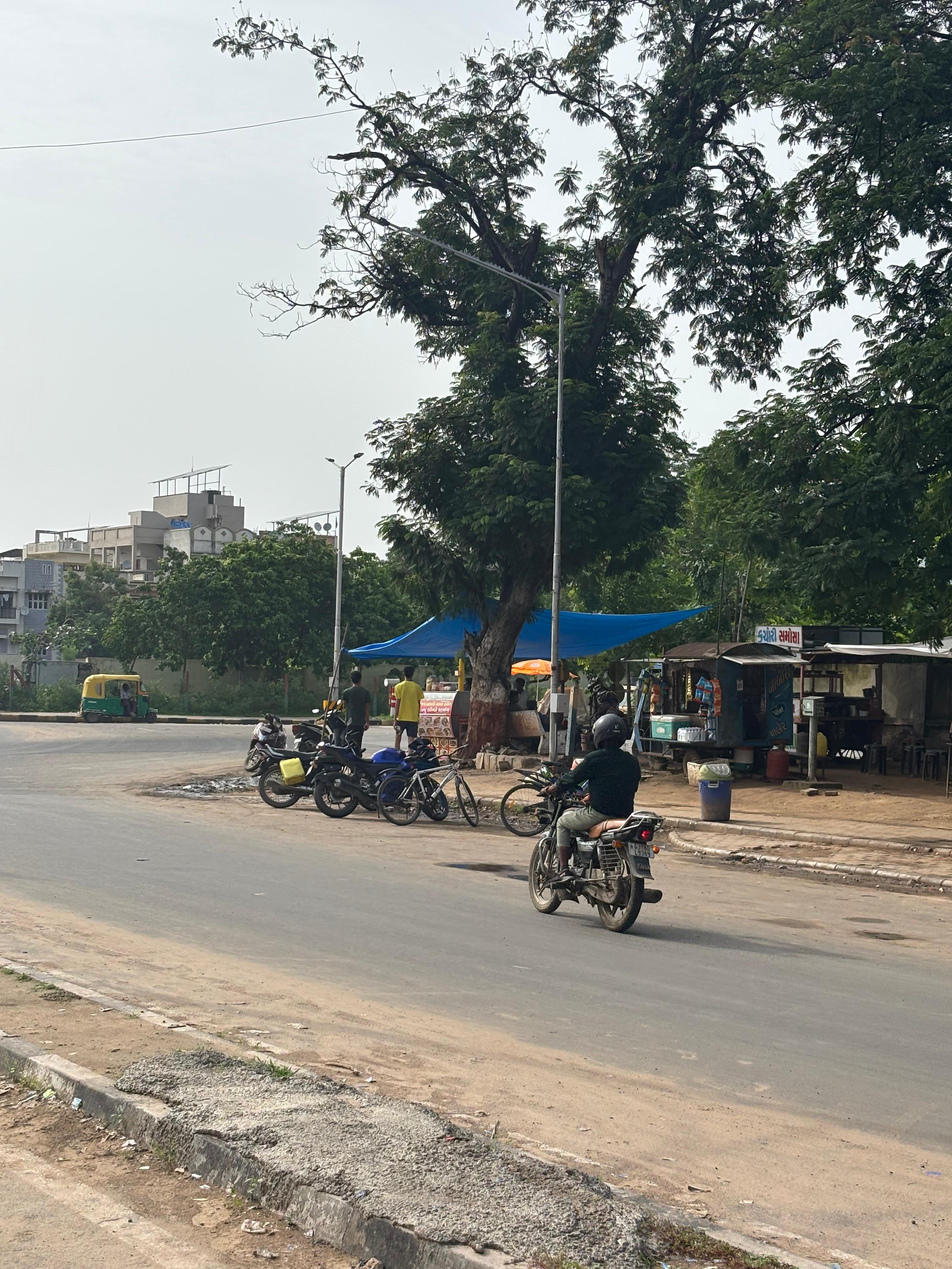BikeWithRider: (520, 706, 672, 940)
Helmet: (588, 708, 634, 753)
